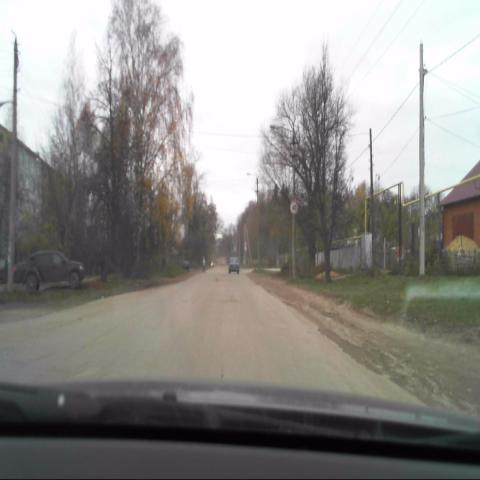3_24: (288, 199, 298, 214)
